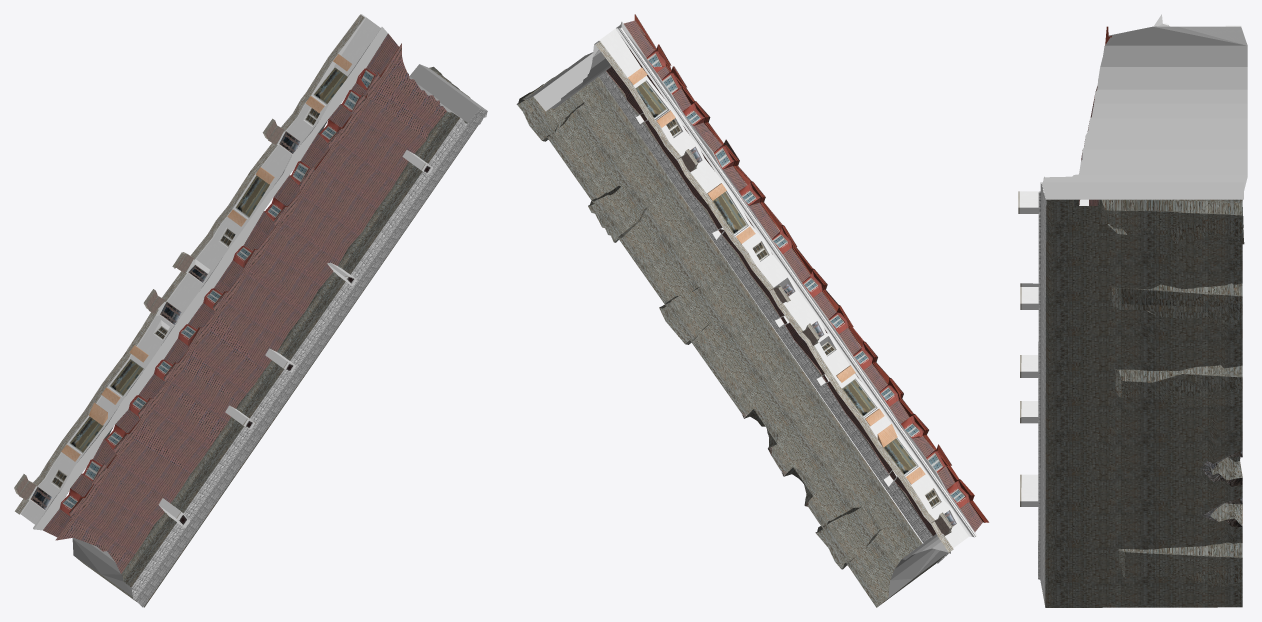
Rendered from Suurtyki_4c_1-origo.obj.
The picture shows the model from 3 angles, left to right: view 1: azimuth 30°, elevation 25°; view 2: azimuth 150°, elevation 25°; view 3: azimuth 270°, elevation 25°; orthographic projection. The views are drawn at different scales.
Visible parts, largest first — view 1: Suurtyki_4c_1; view 2: Suurtyki_4c_1; view 3: Suurtyki_4c_1.
Boxes of the visible parts, x1=… form: Suurtyki_4c_1: x1=14, y1=14, x2=487, y2=607; Suurtyki_4c_1: x1=516, y1=14, x2=989, y2=607; Suurtyki_4c_1: x1=1018, y1=14, x2=1247, y2=607.
Size of the model in its own units: 37.88 by 41.5 by 10.58.
